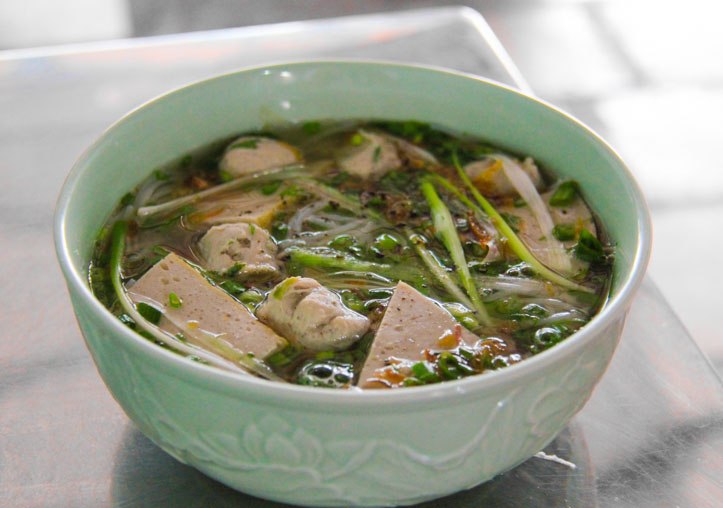chamoc: (130, 251, 277, 358), (369, 278, 482, 386), (259, 274, 366, 353), (198, 226, 282, 279), (225, 136, 300, 183)
onion: (387, 176, 477, 270)
